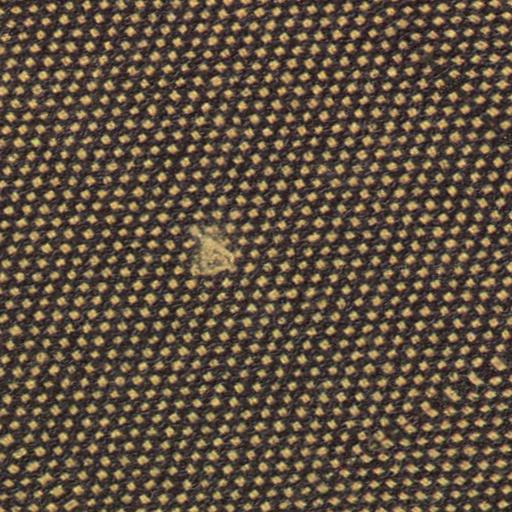knot: (183, 225, 245, 291)
